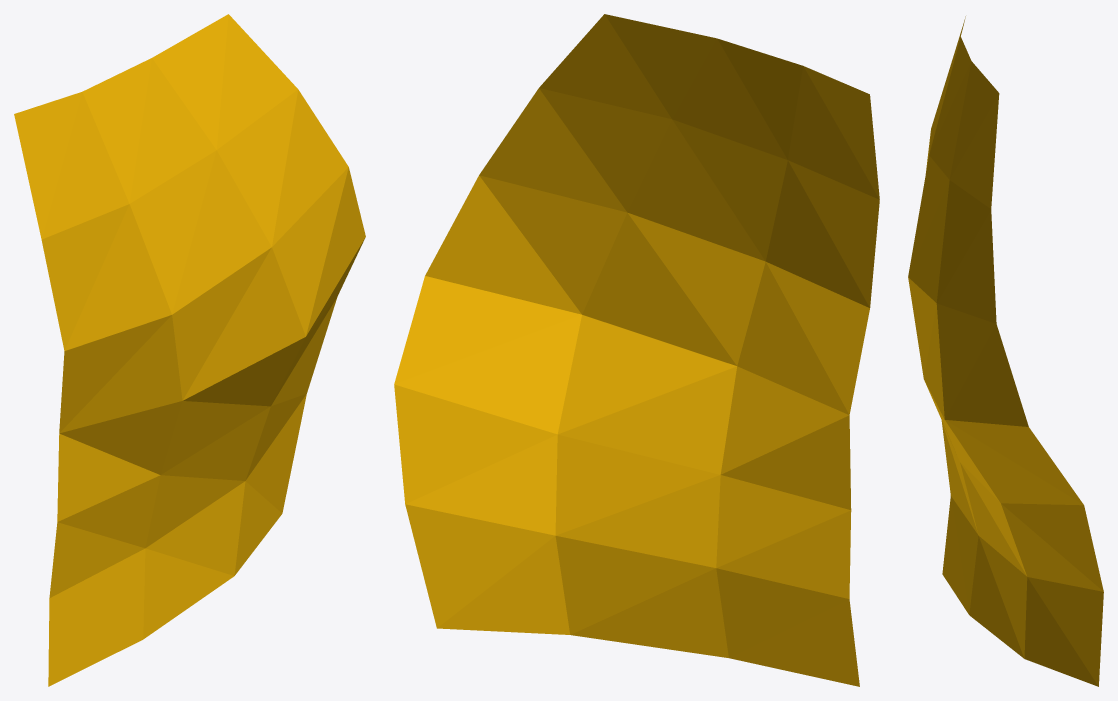
Rendered from Corazon.FBX.
The picture shows the model from 3 angles, left to right: view 1: azimuth 30°, elevation 25°; view 2: azimuth 150°, elevation 25°; view 3: azimuth 270°, elevation 25°; orthographic projection. The views are drawn at different scales.
Parts seen in each view (by area): view 1: Corazon; view 2: Corazon; view 3: Corazon.
Boxes of the visible parts, x1,y1,x2,y2 form: Corazon: (14,14,365,686); Corazon: (394,14,879,686); Corazon: (908,16,1103,686).
Bounding box in the file's own units: 5.33 × 7.95 × 2.43.
